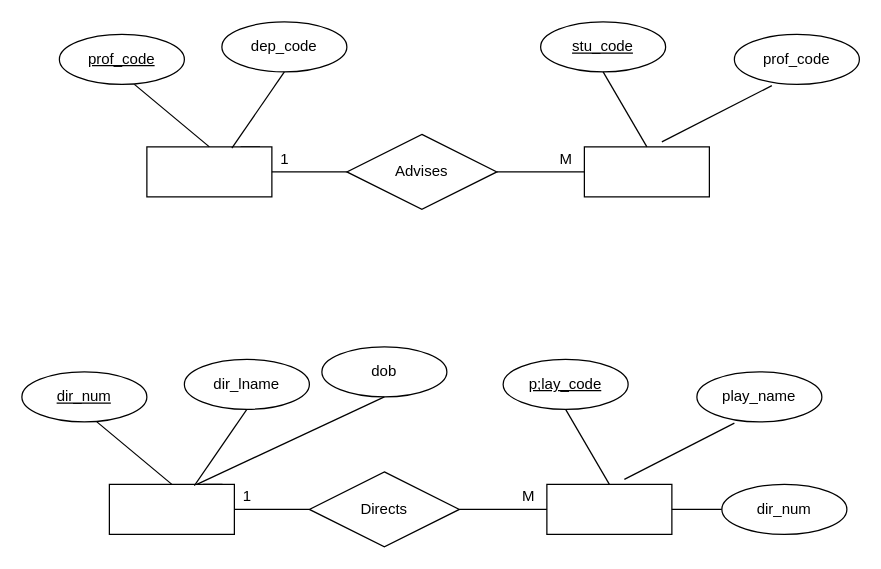
The diagram is 881 pixels wide and 569 high, and some of its shapes have lost their labels. Here are the shapes that lost their labels. From the top down, the centre of each, then its label:
At point (209, 171): "Professor".
At point (646, 171): "Student".
At point (171, 508): "Director".
At point (609, 508): "Plays".
